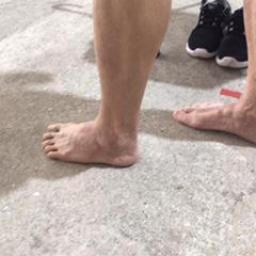Lateral View -Left Foot-: (36, 96, 148, 177)
